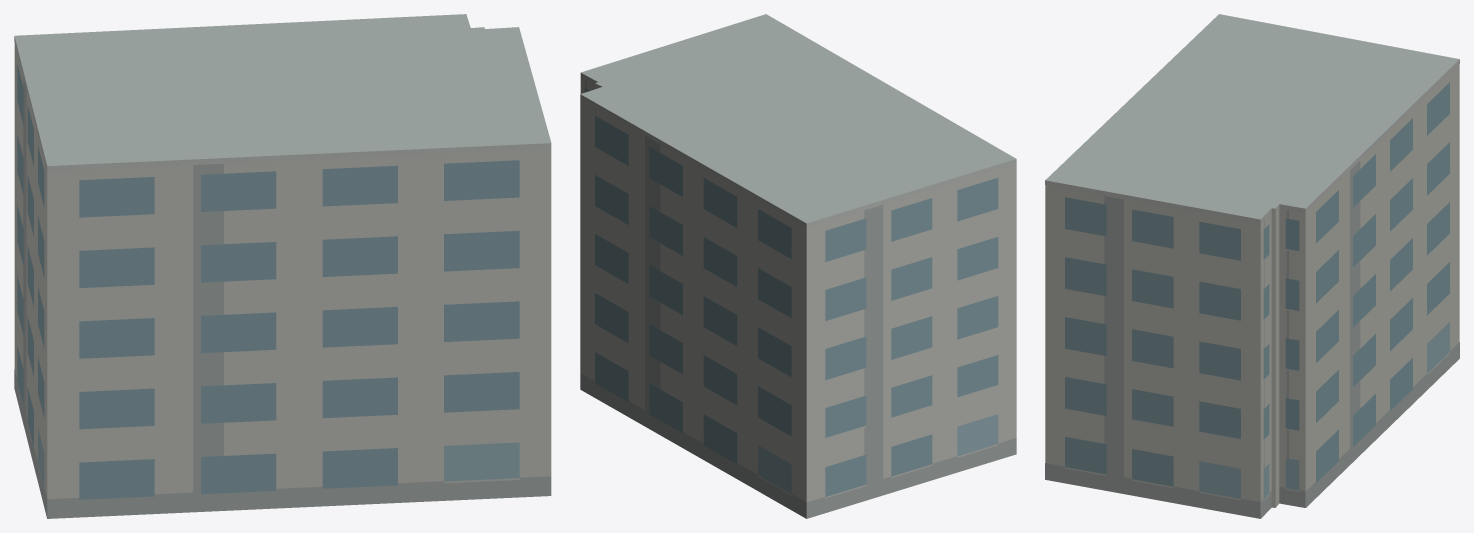
The model's file is survey-upis-32670537.glb.
The picture shows the model from 3 angles, left to right: view 1: azimuth 30°, elevation 25°; view 2: azimuth 150°, elevation 25°; view 3: azimuth 270°, elevation 25°; orthographic projection. The views are drawn at different scales.
Visible parts, largest first — view 1: survey-upis-32670537.tmp; view 2: survey-upis-32670537.tmp; view 3: survey-upis-32670537.tmp.
Part boxes in pixels (x1,y1,x2,y2): survey-upis-32670537.tmp: [14, 14, 551, 518]; survey-upis-32670537.tmp: [580, 14, 1016, 518]; survey-upis-32670537.tmp: [1045, 14, 1459, 518].
Size of the model in its own units: 22.46 by 15.25 by 19.15.
